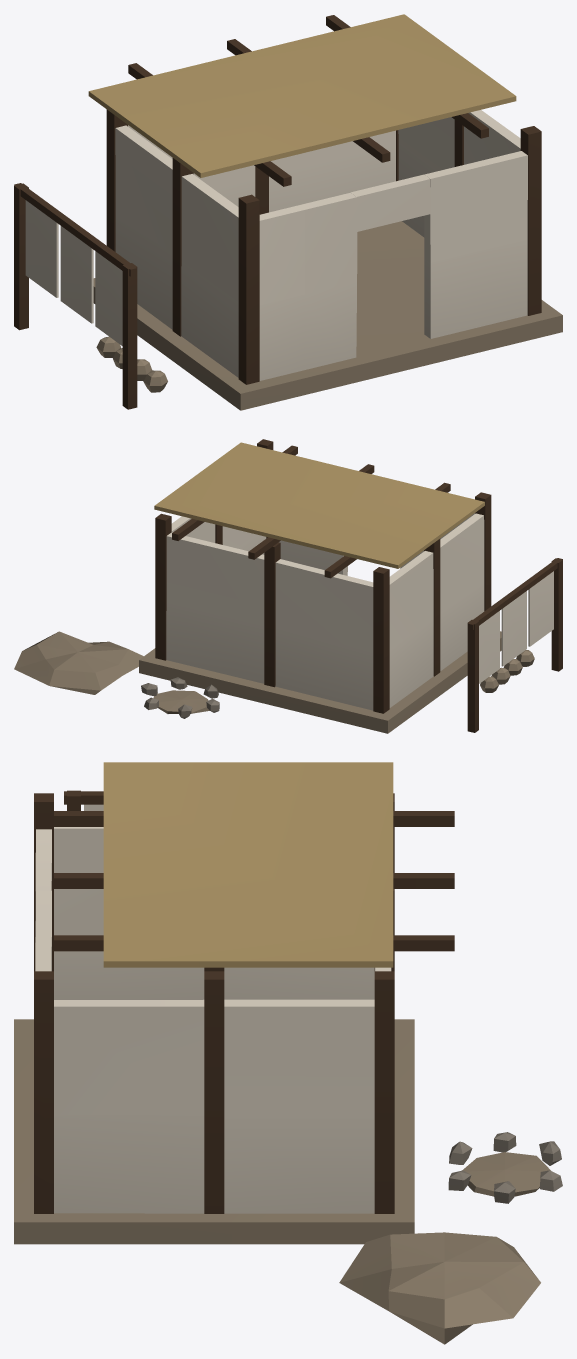
Rendered from caral_house_aspero_lod0.glb.
3 renders of one model, top to bottom at view 1: azimuth 30°, elevation 25°; view 2: azimuth 150°, elevation 25°; view 3: azimuth 270°, elevation 25°, orthographic. The views are drawn at different scales.
Visible parts, largest first — view 1: GEO-Arch_house_aspero_LOD0; view 2: GEO-Arch_house_aspero_LOD0; view 3: GEO-Arch_house_aspero_LOD0.
Part boxes in pixels (box(x1,y1,x2,y2)): GEO-Arch_house_aspero_LOD0: box(14, 14, 562, 410); GEO-Arch_house_aspero_LOD0: box(14, 439, 562, 733); GEO-Arch_house_aspero_LOD0: box(14, 762, 562, 1344).
Size of the model in its own units: 8.25 by 3.22 by 5.48.
